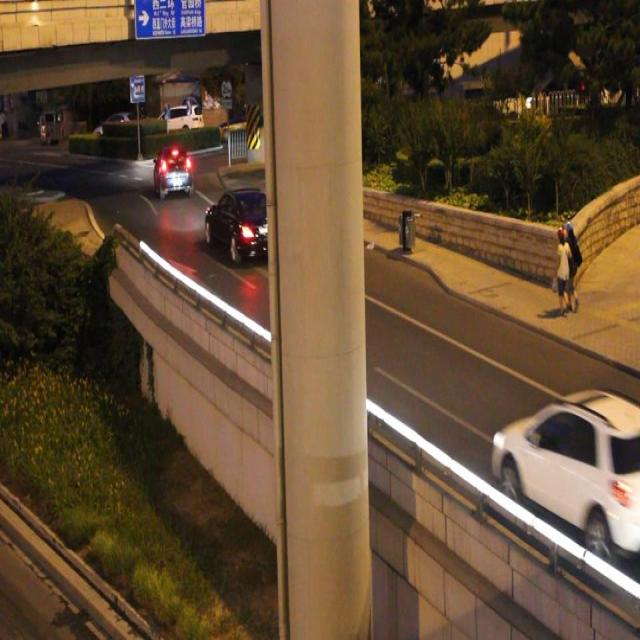car: (490, 388, 640, 558), (203, 186, 280, 266), (154, 145, 194, 196)
